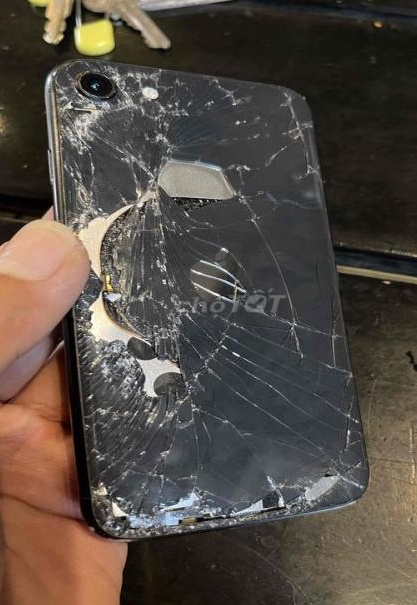physical_damage: (46, 461, 240, 540), (247, 452, 366, 543), (176, 185, 350, 241), (50, 351, 237, 402), (51, 409, 226, 462), (244, 339, 367, 411), (224, 114, 354, 182), (24, 185, 175, 243), (64, 241, 211, 295), (58, 296, 207, 349), (39, 119, 182, 170), (221, 235, 351, 289), (54, 62, 166, 123), (245, 401, 368, 454), (299, 297, 382, 361), (209, 295, 306, 346), (39, 161, 187, 187), (244, 74, 334, 114), (171, 64, 239, 115), (179, 112, 230, 171)
